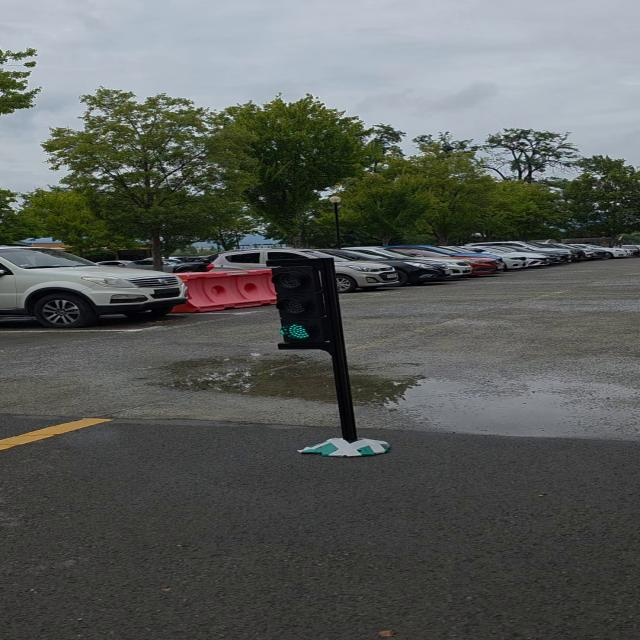green: (271, 256, 338, 353)
